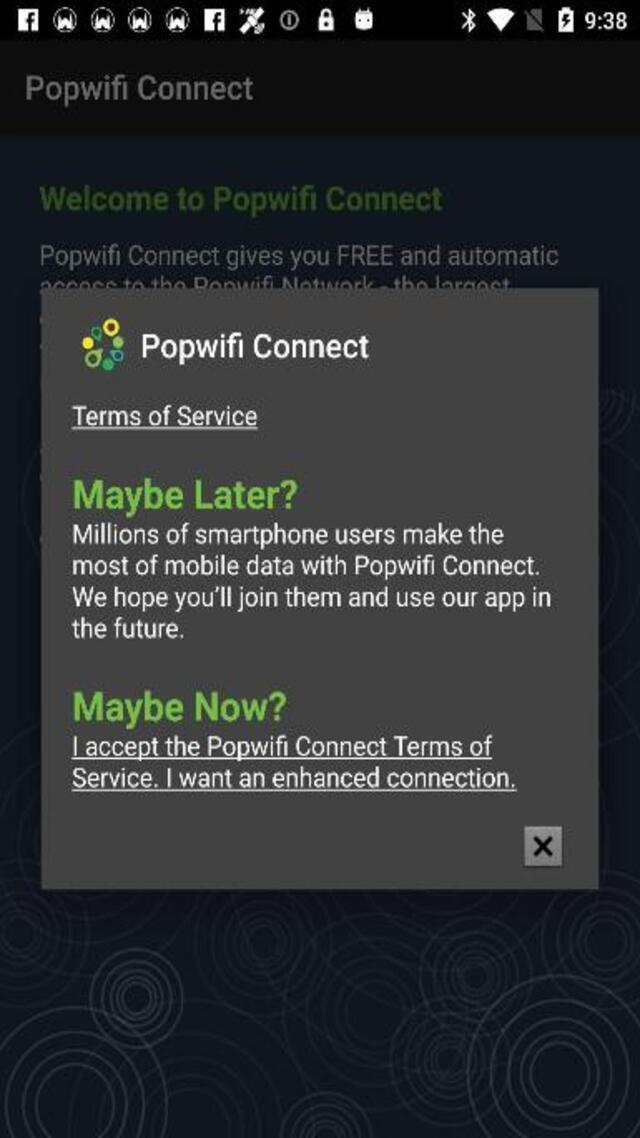Icon: (524, 827, 560, 866)
Image: (80, 320, 126, 370)
Text: (71, 583, 554, 614), (71, 552, 541, 580), (70, 765, 520, 794), (40, 185, 442, 217), (40, 246, 558, 270), (70, 735, 498, 761), (72, 524, 510, 546), (75, 478, 298, 518), (26, 73, 252, 108), (142, 332, 373, 366), (74, 691, 285, 728), (71, 406, 258, 430), (71, 615, 185, 644)
